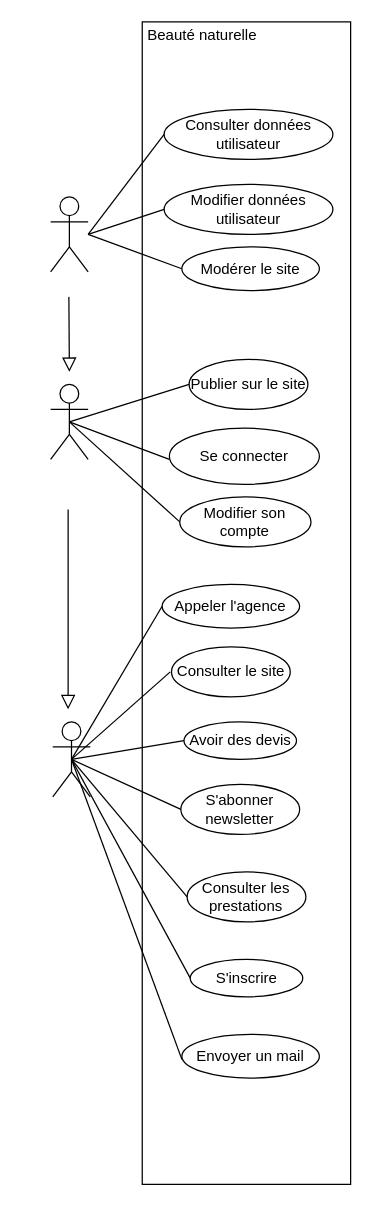
This 373x1206 diagram has some shape labels left out. The shapes that lost their labels are listed below. From the top down, each one's box as (x1, y1, x2, y2) in pixels, then its label:
(49, 196, 88, 272): Administrateur
(49, 383, 88, 459): Membre
(52, 721, 90, 797): Visiteur
